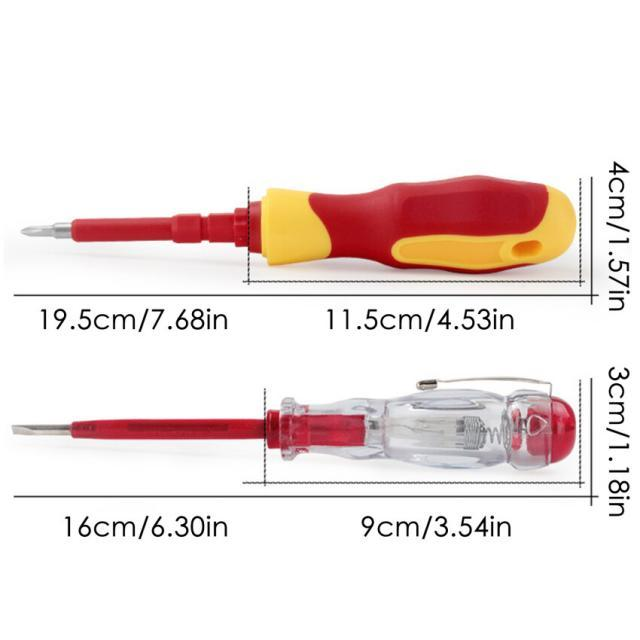screwdriver: (16, 173, 580, 279), (7, 370, 577, 474)
